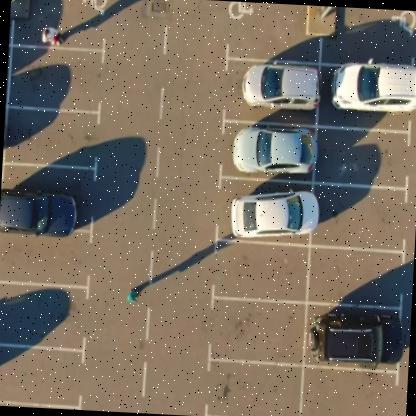Car: (304, 306, 410, 376), (331, 54, 415, 126), (226, 122, 323, 184), (237, 58, 327, 121), (223, 187, 325, 241), (0, 188, 83, 241)
Empty: (11, 44, 103, 108), (318, 186, 411, 246), (214, 299, 304, 361), (3, 286, 87, 346), (312, 253, 406, 305), (210, 364, 301, 415), (320, 134, 412, 184), (11, 110, 99, 162), (218, 243, 304, 296), (0, 347, 84, 401), (304, 367, 396, 415), (232, 1, 318, 52), (331, 9, 414, 60), (16, 0, 105, 46), (3, 238, 89, 284), (10, 164, 92, 190)
